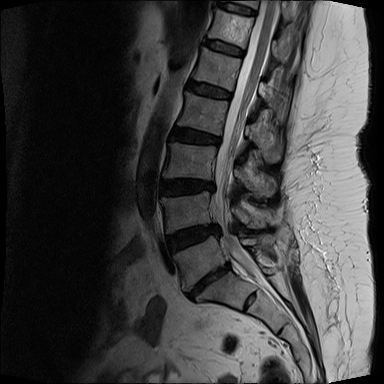Degenerative Disc Disease (DDD): (168, 123, 225, 151)
Lumbar Disc Bulge (LDB): (164, 216, 225, 260), (183, 258, 237, 305), (156, 172, 217, 199)
Normal IVD: (183, 74, 236, 105), (200, 37, 247, 62)
Spinal Stenosis (SS): (207, 218, 225, 241), (200, 176, 219, 197), (220, 254, 232, 274)
